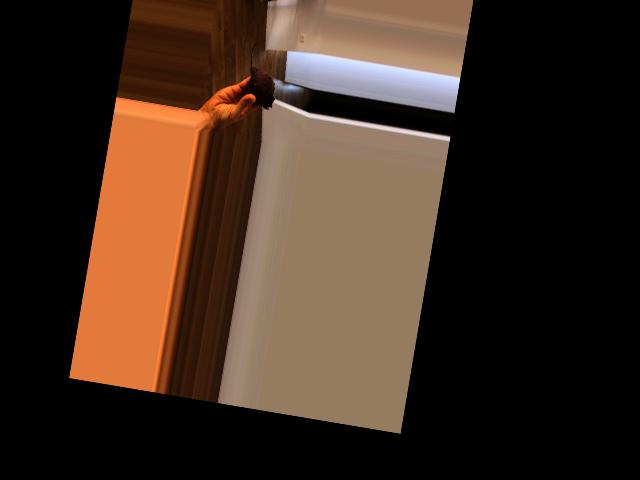beet: (242, 40, 283, 109)
